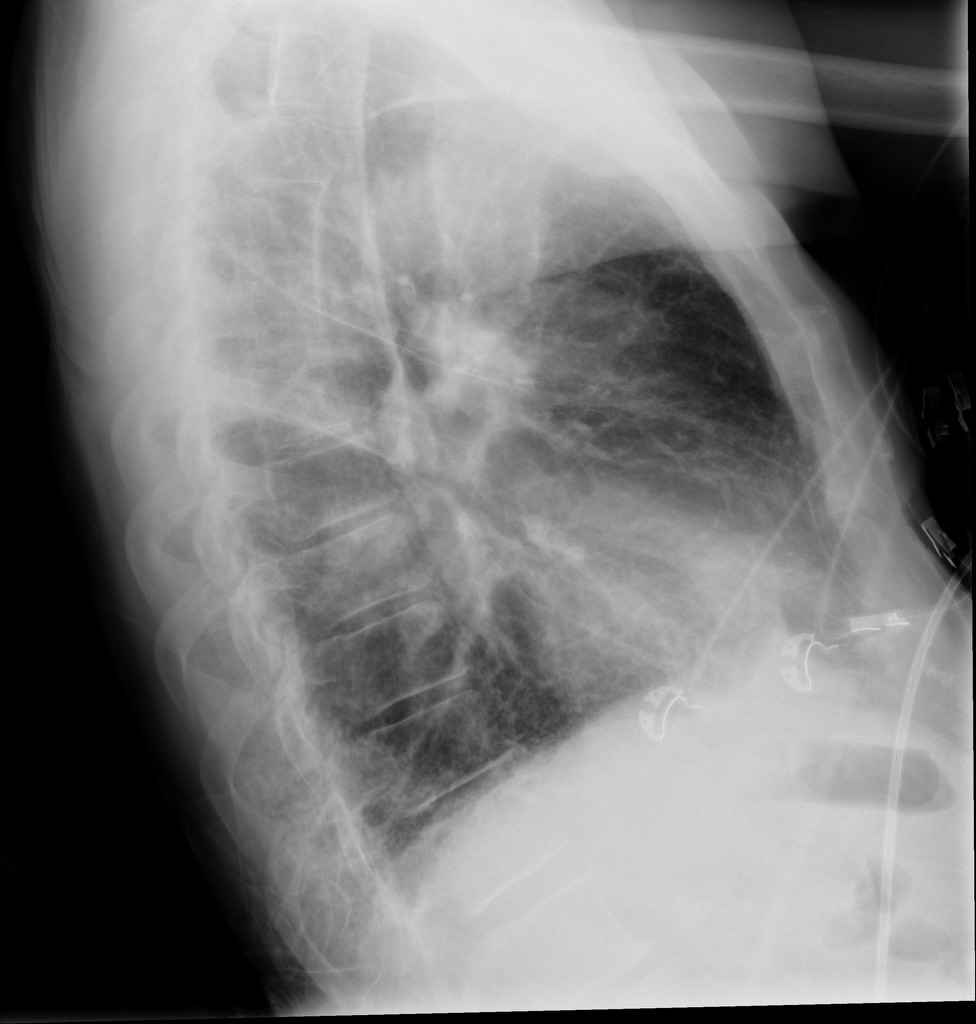cancer: (307, 141, 703, 602)
